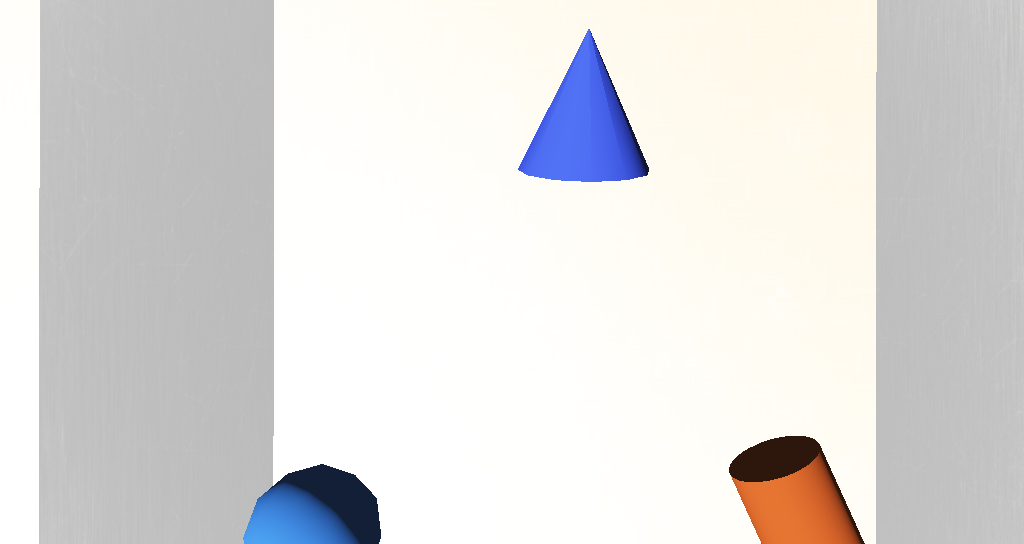cone: (579, 324, 647, 382)
cylinder: (482, 179, 542, 241)
sphere: (344, 336, 411, 379)
